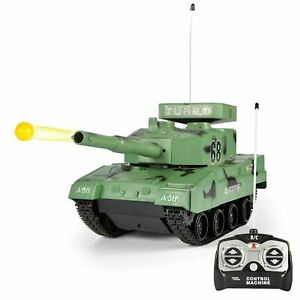Battle Tank: (69, 99, 269, 236)
